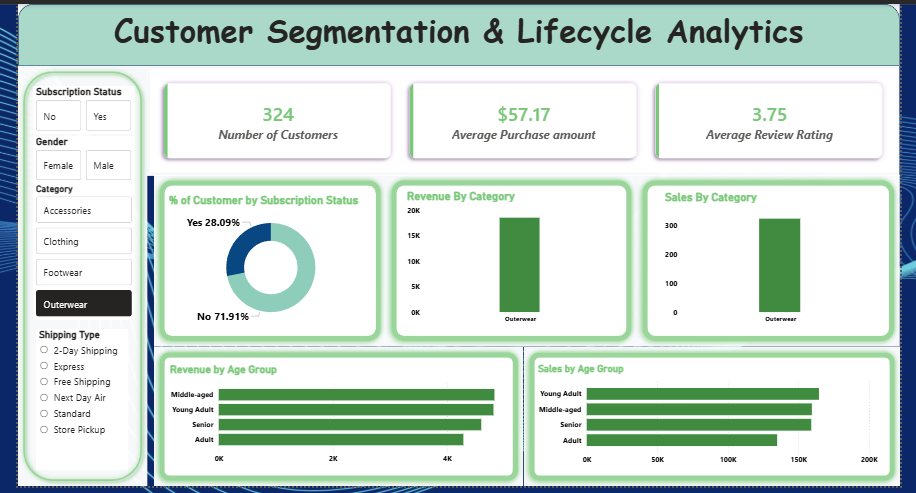

Layout of this report page (visuals, bound fields, positions):
{"tool":"powerbi","page":{"name":"Page 1","canvas":[1500,820],"ordinal":0},"visuals":[{"type":"cardVisual","fields":{"Data":["public_customer.Number of Customers","public_customer.Average Purchase amount","public_customer.Average Review Rating"]},"box":[220,105,1280,186.7],"z":0},{"type":"shape","box":[0,0,1500,105],"z":1000},{"type":"textbox","box":[0,0,1500,105],"z":2000},{"type":"shape","box":[231.7,291.7,395,291.7],"z":3000},{"type":"donutChart","title":"% of Customer by Subscription Status","fields":{"Category":["public_customer.subscription_status"],"Y":["CountNonNull(public_customer.customer_id)"]},"box":[251.7,321.7,356.7,231.7],"z":4000},{"type":"shape","box":[1053.3,291.7,446.7,291.7],"z":5000},{"type":"shape","box":[626.7,291.7,426.7,291.7],"z":6000},{"type":"clusteredColumnChart","title":"Revenue By Category","fields":{"Category":["public_customer.category"],"Y":["Sum(public_customer.purchase_amount)"]},"box":[656.7,315,365,238.3],"z":7000},{"type":"clusteredColumnChart","title":"Sales By Category","fields":{"Category":["public_customer.category"],"Y":["CountNonNull(public_customer.customer_id)"]},"box":[1095,316.7,373.3,236.7],"z":8000},{"type":"shape","box":[0,105,220,715],"z":9000},{"type":"advancedSlicerVisual","fields":{"Values":["public_customer.subscription_status"]},"box":[25,140,173.3,81.7],"z":10000},{"type":"advancedSlicerVisual","fields":{"Values":["public_customer.gender"]},"box":[25,225,173.3,80],"z":11000},{"type":"advancedSlicerVisual","fields":{"Values":["public_customer.category"]},"box":[25,305,173.3,233.3],"z":12000},{"type":"listSlicer","fields":{"Values":["public_customer.shipping_type"]},"box":[30,553.3,156.7,240],"z":13000},{"type":"shape","box":[231.7,583.3,628.3,236.7],"z":14000},{"type":"shape","box":[860,583.3,640,236.7],"z":16000},{"type":"clusteredBarChart","title":"Sales by Age Group","fields":{"Category":["public_customer.age_group"],"Y":["Sum(public_customer.customer_id)"]},"box":[880,610,588.3,181.7],"z":17000},{"type":"clusteredBarChart","title":"Revenue by Age Group","fields":{"Category":["public_customer.age_group"],"Y":["Sum(public_customer.purchase_amount)"]},"box":[253.3,610,586.7,180],"z":17500}]}

Visuals, with their boxes in screenshot pixels (x1, y1, x2, y2), scaled from the page's 1500x820 canvas onto the 916x493 screenshot:
cardVisual - public_customer.Number of Customers x public_customer.Average Purchase amount: bbox=(134, 63, 915, 175)
shape: bbox=(0, 0, 915, 63)
textbox: bbox=(0, 0, 915, 63)
shape: bbox=(141, 175, 383, 351)
"% of Customer by Subscription Status" donutChart: bbox=(154, 193, 372, 333)
shape: bbox=(643, 175, 915, 351)
shape: bbox=(383, 175, 643, 351)
"Revenue By Category" clusteredColumnChart: bbox=(401, 189, 624, 333)
"Sales By Category" clusteredColumnChart: bbox=(669, 190, 897, 333)
shape: bbox=(0, 63, 134, 492)
advancedSlicerVisual - public_customer.subscription_status: bbox=(15, 84, 121, 133)
advancedSlicerVisual - public_customer.gender: bbox=(15, 135, 121, 183)
advancedSlicerVisual - public_customer.category: bbox=(15, 183, 121, 324)
listSlicer - public_customer.shipping_type: bbox=(18, 333, 114, 477)
shape: bbox=(141, 351, 525, 492)
shape: bbox=(525, 351, 915, 492)
"Sales by Age Group" clusteredBarChart: bbox=(537, 367, 897, 476)
"Revenue by Age Group" clusteredBarChart: bbox=(155, 367, 513, 475)
